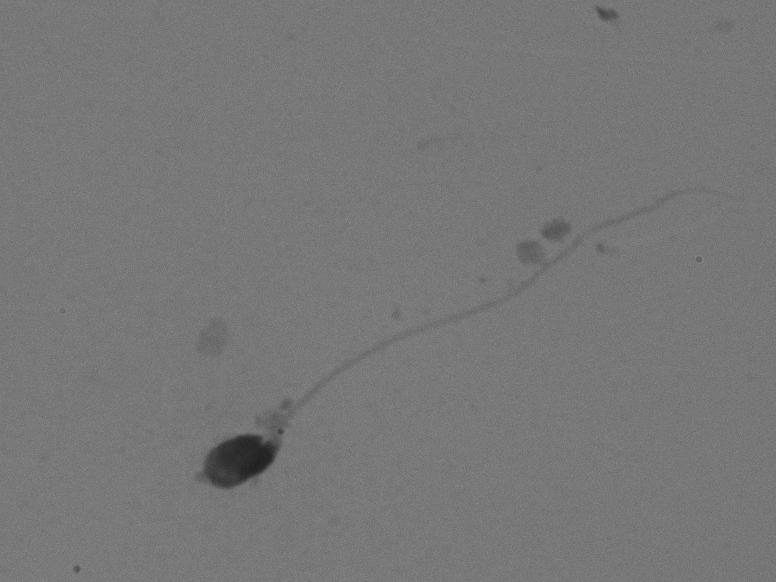Abnormal: (170, 125, 759, 496)
